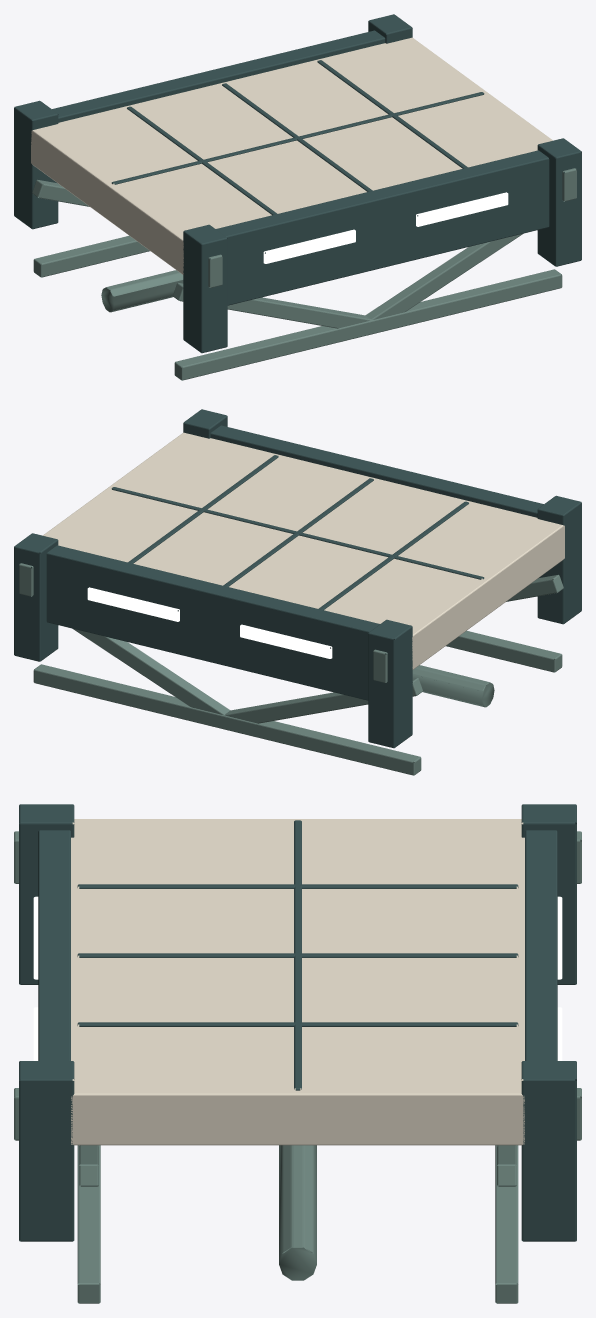
The model's file is Deck_S_lab.glb.
3 renders of one model, top to bottom at view 1: azimuth 30°, elevation 25°; view 2: azimuth 150°, elevation 25°; view 3: azimuth 270°, elevation 25°, orthographic. The views are drawn at different scales.
Parts seen in each view (by area): view 1: Deck_S; view 2: Deck_S; view 3: Deck_S.
Part boxes in pixels (x1,y1,x2,y2): Deck_S: (14, 14, 581, 380); Deck_S: (14, 409, 581, 775); Deck_S: (14, 804, 581, 1303).
Size of the model in its own units: 4.04 by 1.52 by 3.48.
